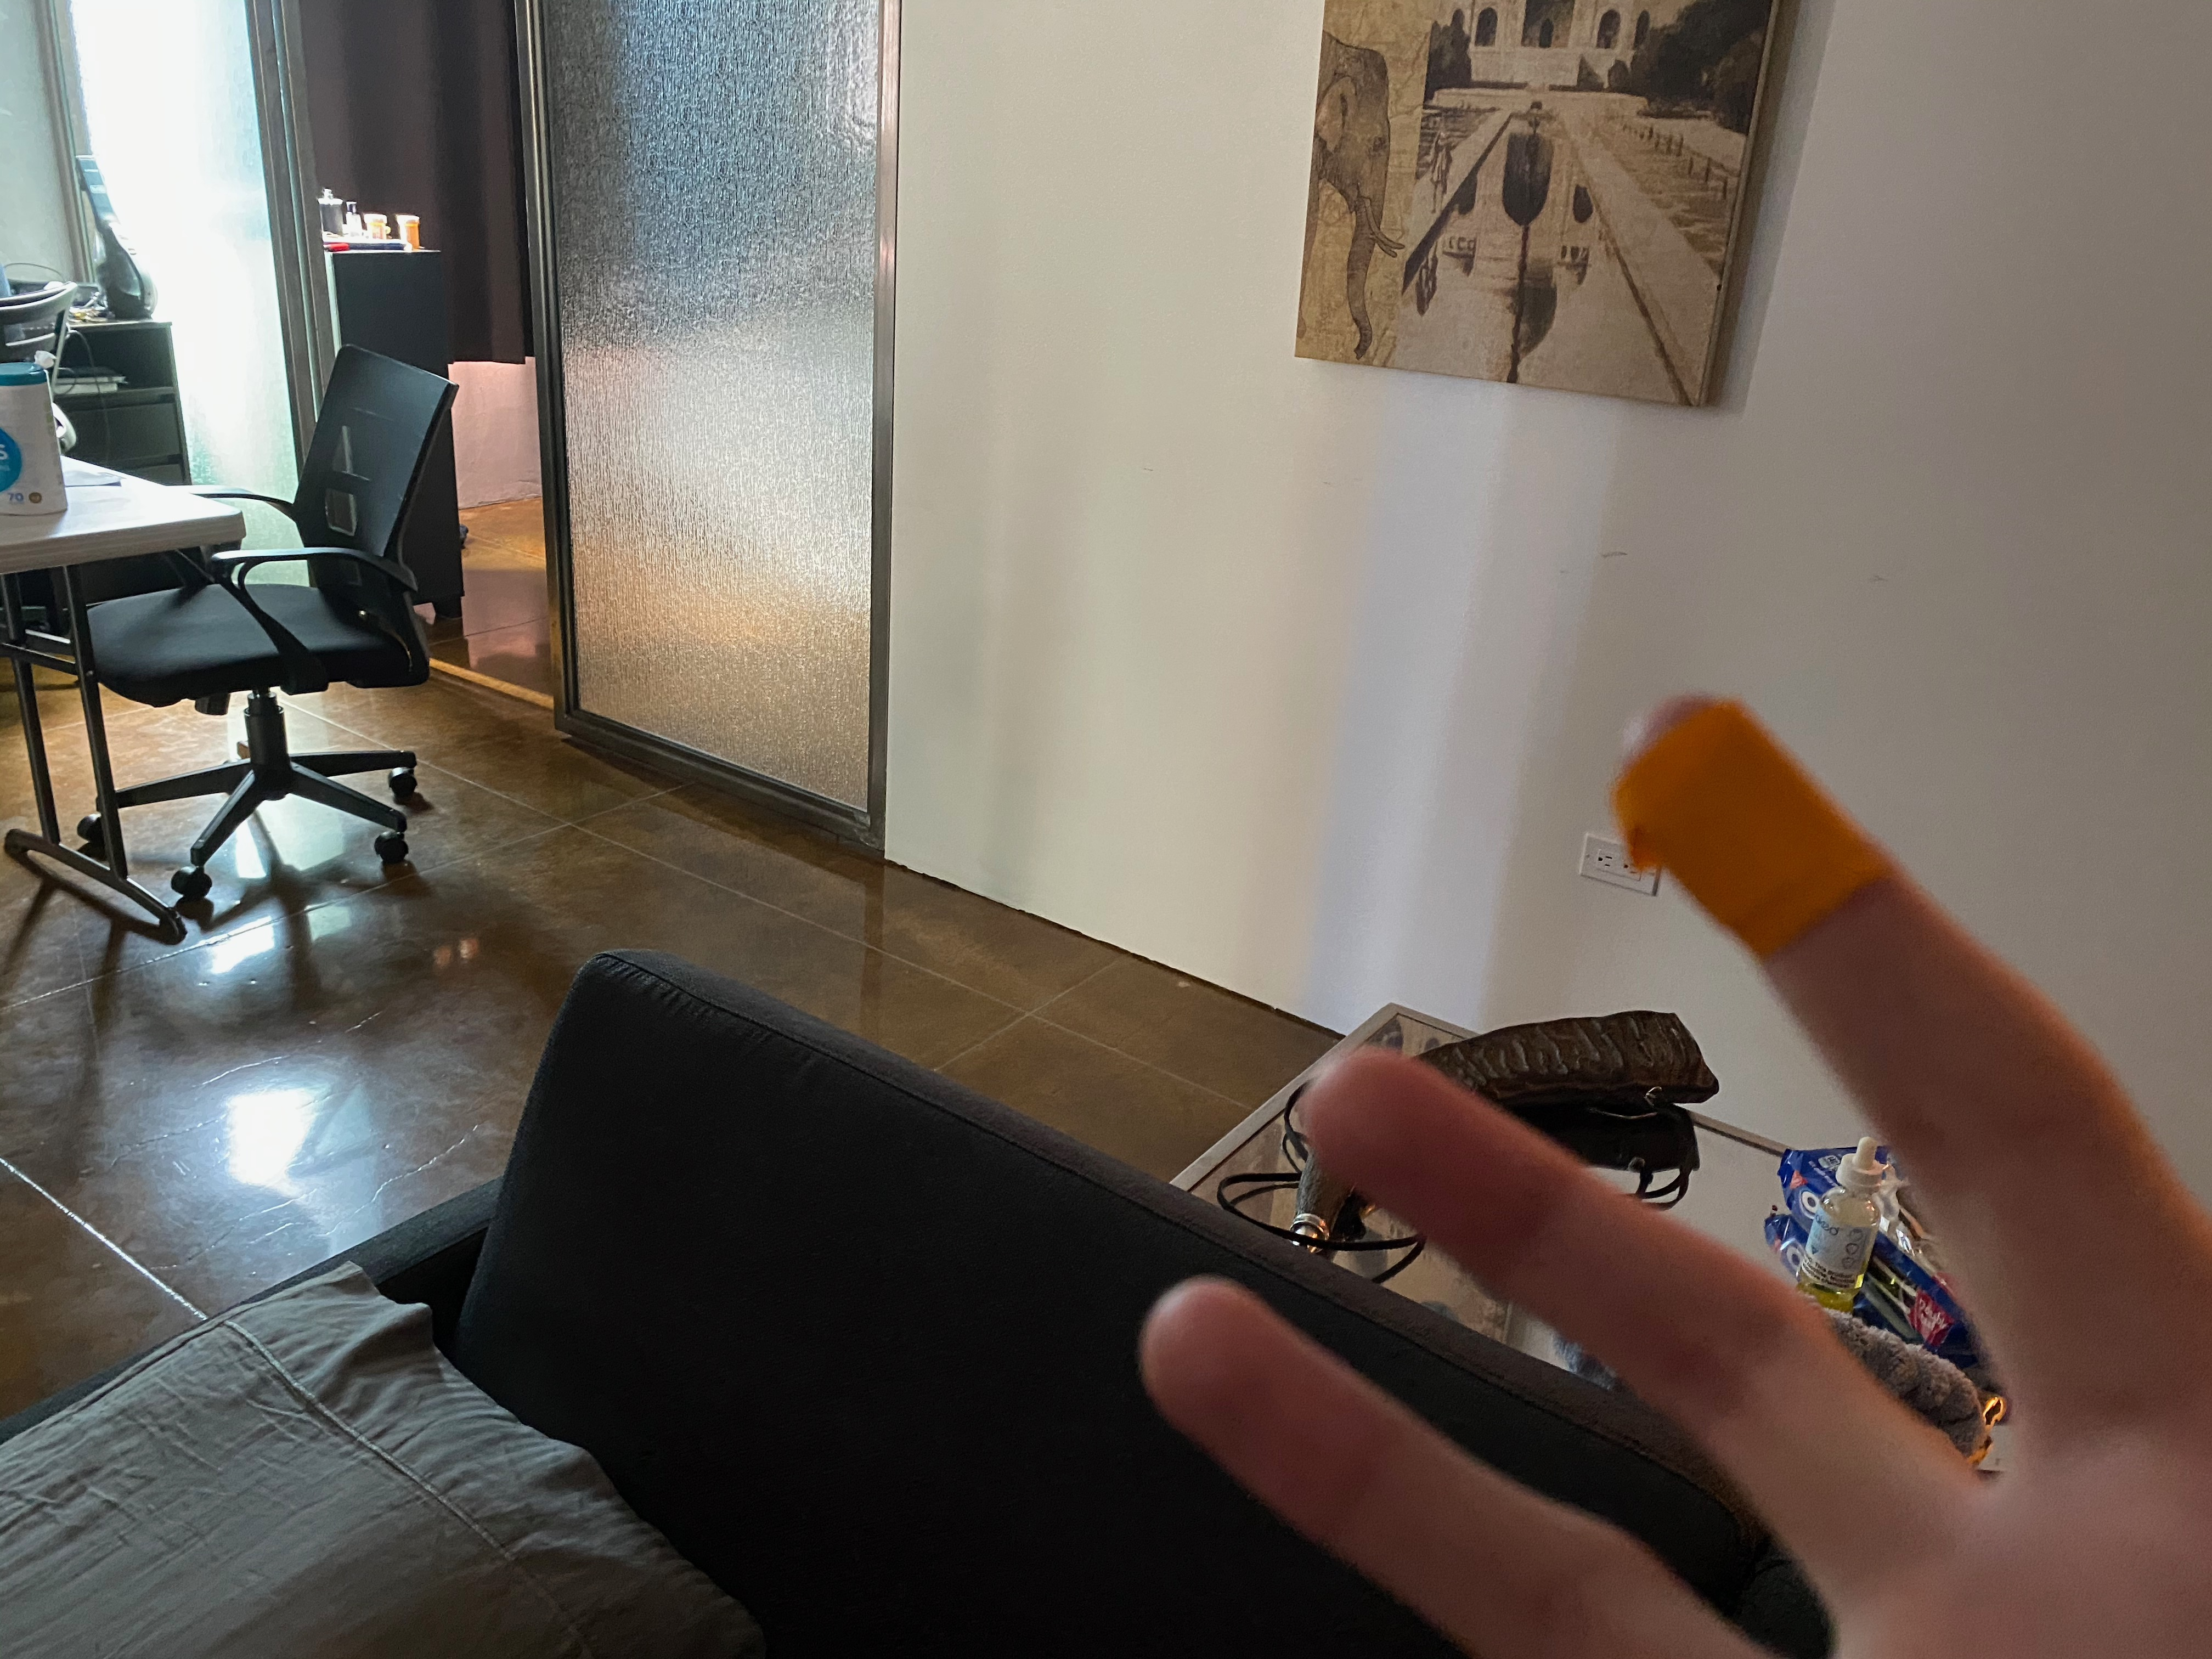fingertip: (1578, 683, 1961, 1035)
